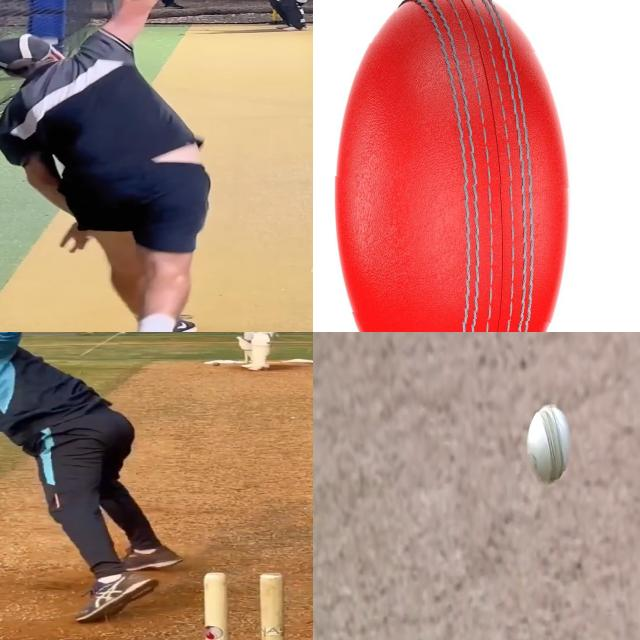Cricket ball: (327, 0, 573, 332), (527, 401, 572, 485), (212, 362, 221, 367)
Stumps: (202, 569, 313, 640)
